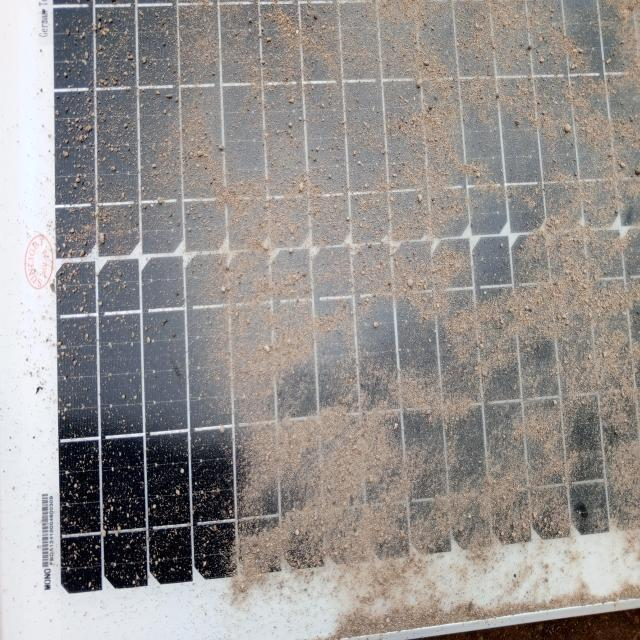Anomaly Solar Panel: (6, 7, 639, 556)
Surface Contaminant: (6, 7, 639, 556)
